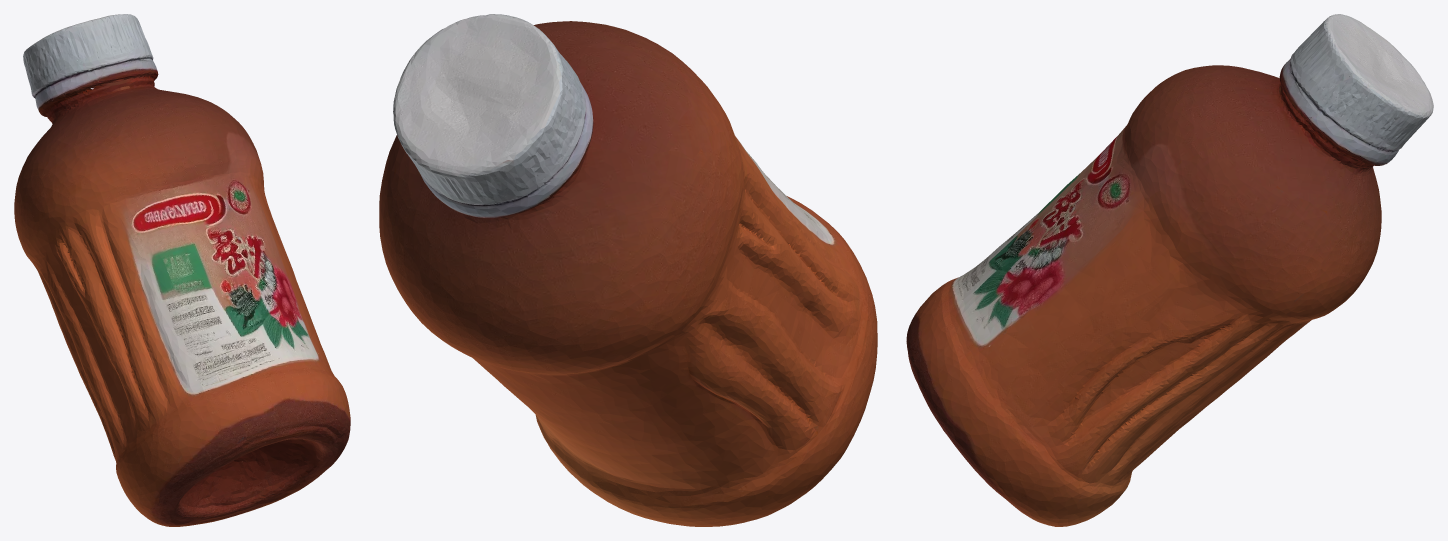
The model's file is head (195).glb.
The picture shows the model from 3 angles, left to right: view 1: azimuth 30°, elevation 25°; view 2: azimuth 150°, elevation 25°; view 3: azimuth 270°, elevation 25°; orthographic projection. The views are drawn at different scales.
Parts seen in each view (by area): view 1: Hy21_Mesh.obj; view 2: Hy21_Mesh.obj; view 3: Hy21_Mesh.obj.
Part boxes in pixels (x1=…): Hy21_Mesh.obj: x1=14, y1=14, x2=350, y2=526; Hy21_Mesh.obj: x1=379, y1=14, x2=877, y2=526; Hy21_Mesh.obj: x1=906, y1=14, x2=1433, y2=526.
Bounding box in the file's own units: 1.06 × 1.96 × 1.94.
Materials: 1 (1 with a texture image).
